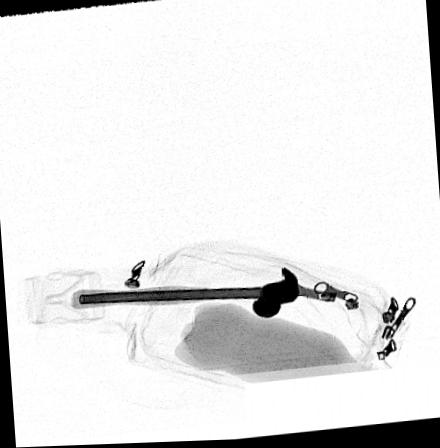Hammer: (68, 267, 300, 320)
